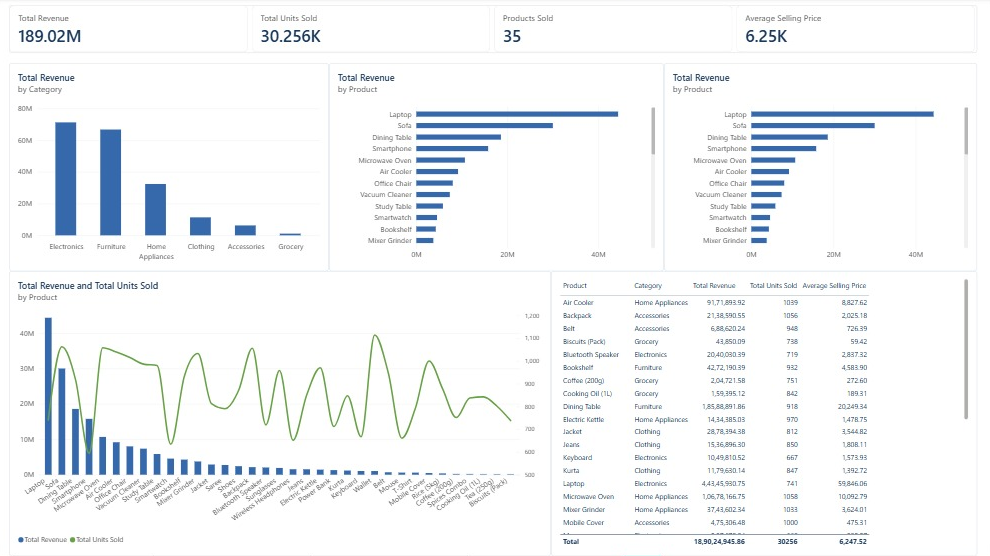

This screenshot's page, from the dashboard's own definition file:
{"tool":"powerbi","page":{"name":"Product Performance","canvas":[1920,1080],"ordinal":1},"visuals":[{"type":"cardVisual","fields":{"Data":["Fact_Sales.Total Revenue","Fact_Sales.Total Units Sold","Fact_Sales.Products Sold","Fact_Sales.Average Selling Price"]},"box":[19.4,13.5,1873.5,92.9],"z":0},{"type":"clusteredColumnChart","fields":{"Category":["dim_product.Category"],"Y":["Fact_Sales.Total Revenue"]},"box":[19.4,125.8,619.4,402.6],"z":1},{"type":"clusteredBarChart","fields":{"Category":["dim_product.Product"],"Y":["Fact_Sales.Total Revenue"]},"box":[638.7,125.8,648.4,402.6],"z":2},{"type":"lineClusteredColumnComboChart","fields":{"Category":["dim_product.Product"],"Y":["Fact_Sales.Total Revenue"],"Y2":["Fact_Sales.Total Units Sold"]},"box":[19.4,528.4,1049,551.6],"z":3},{"type":"clusteredBarChart","fields":{"Category":["dim_product.Product"],"Y":["Fact_Sales.Total Revenue"]},"box":[1287.1,125.8,605.8,402.6],"z":4},{"type":"tableEx","fields":{"Values":["dim_product.Product","dim_product.Category","Fact_Sales.Total Revenue","Fact_Sales.Total Units Sold","Fact_Sales.Average Selling Price"]},"box":[1068.4,528.4,824.8,551.7],"z":5}]}

Visuals, with their boxes in screenshot pixels (x1, y1, x2, y2), scaled from the page's 1920x1080 canvas onto the 990x556 screenshot:
cardVisual - Fact_Sales.Total Revenue x Fact_Sales.Total Units Sold: [x1=10, y1=7, x2=976, y2=55]
clusteredColumnChart - dim_product.Category x Fact_Sales.Total Revenue: [x1=10, y1=65, x2=329, y2=272]
clusteredBarChart - dim_product.Product x Fact_Sales.Total Revenue: [x1=329, y1=65, x2=664, y2=272]
lineClusteredColumnComboChart - dim_product.Product x Fact_Sales.Total Revenue: [x1=10, y1=272, x2=551, y2=555]
clusteredBarChart - dim_product.Product x Fact_Sales.Total Revenue: [x1=664, y1=65, x2=976, y2=272]
tableEx - dim_product.Product x dim_product.Category: [x1=551, y1=272, x2=976, y2=555]
